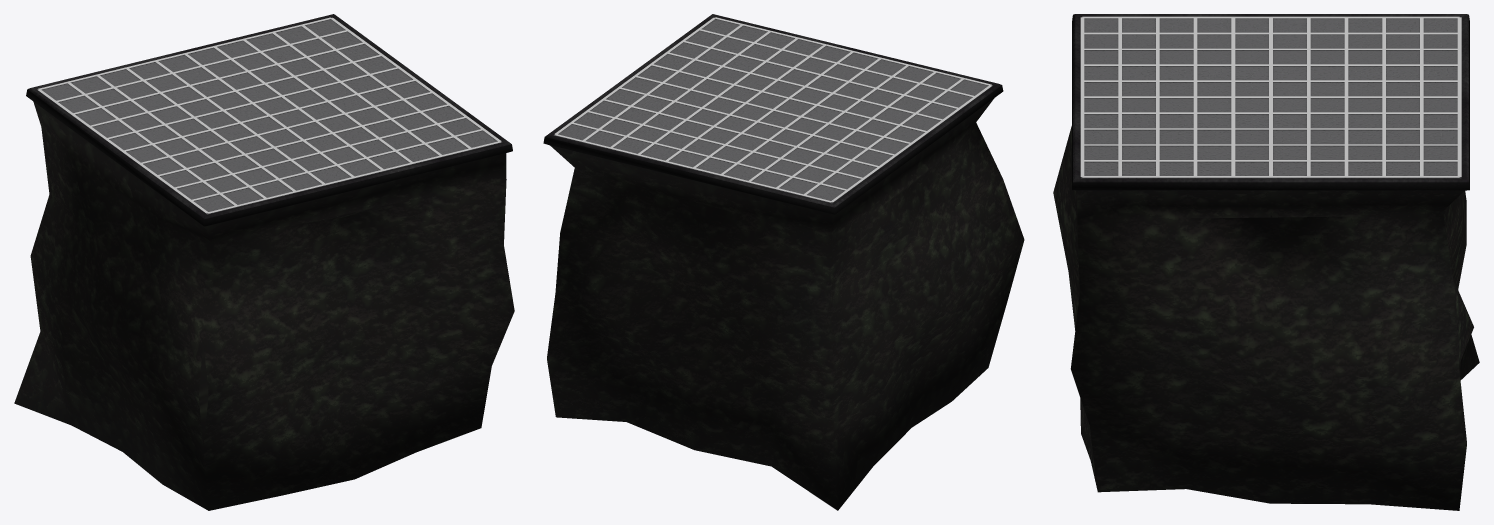
The model's file is Level.fbx.
The picture shows the model from 3 angles, left to right: view 1: azimuth 30°, elevation 25°; view 2: azimuth 150°, elevation 25°; view 3: azimuth 270°, elevation 25°; orthographic projection. The views are drawn at different scales.
Parts seen in each view (by area): view 1: Cube, Plane_001; view 2: Cube, Plane_001; view 3: Cube, Plane_001.
Part boxes in pixels (x1,y1,x2,y2): Cube: (14, 14, 514, 510); Plane_001: (37, 17, 501, 213); Cube: (543, 14, 1024, 510); Plane_001: (554, 17, 992, 202); Cube: (1053, 14, 1479, 510); Plane_001: (1080, 16, 1461, 177).
Size of what is drawn, in the model's own units: 2.37 by 2.07 by 2.26.
Materials: 4 (3 with a texture image).
